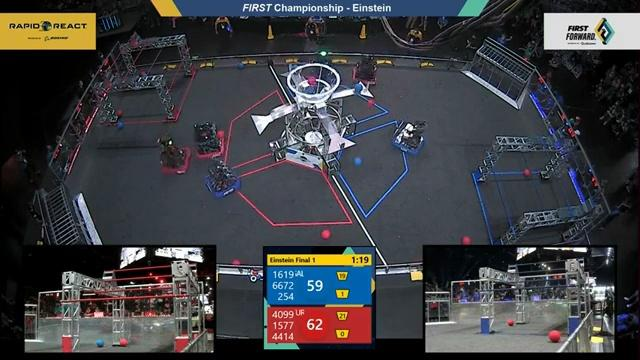robot: (300, 52, 344, 101), (198, 156, 245, 200), (385, 114, 430, 158), (154, 132, 194, 179), (191, 115, 227, 161), (348, 55, 380, 85)
